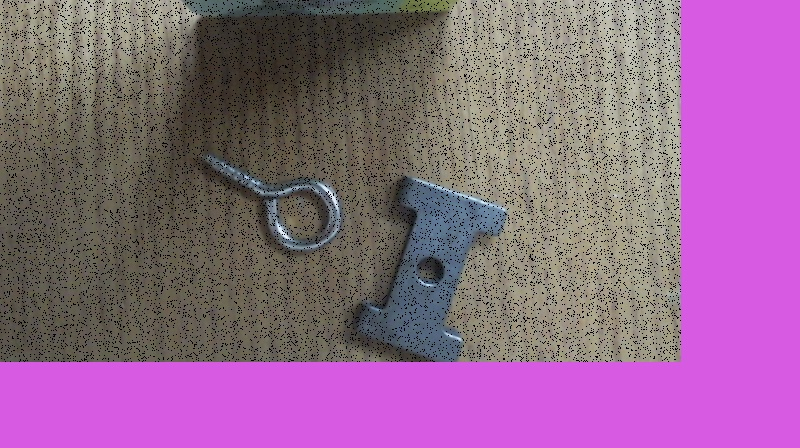O001: (196, 149, 344, 253)
O002: (350, 171, 509, 360)
